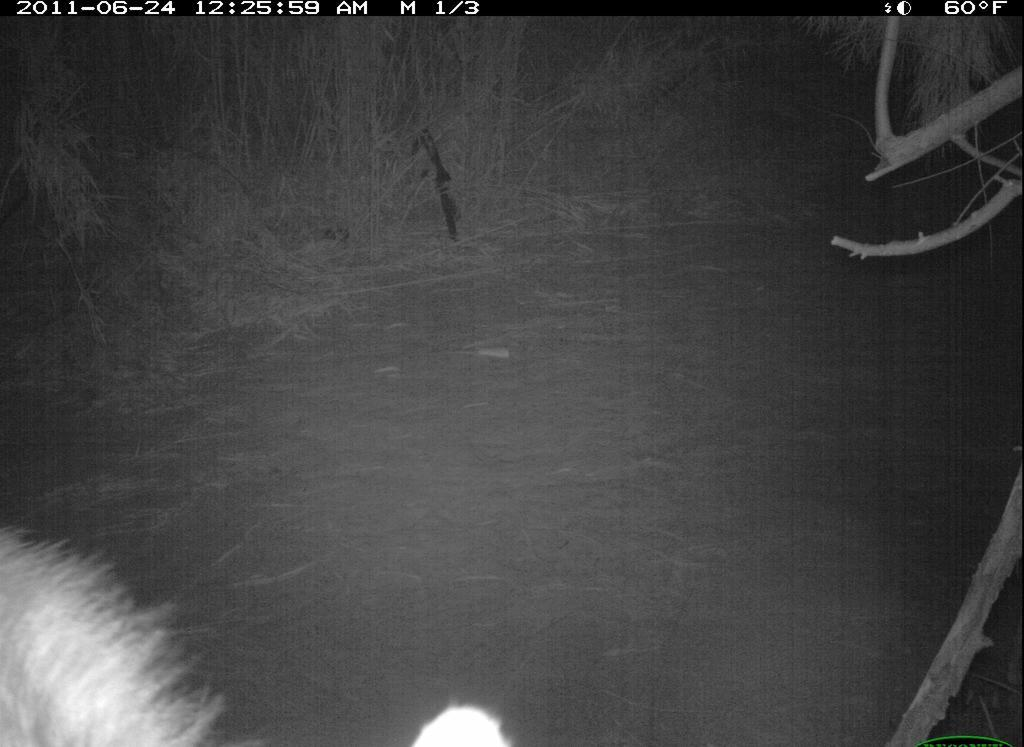raccoon: (1, 519, 511, 747)
